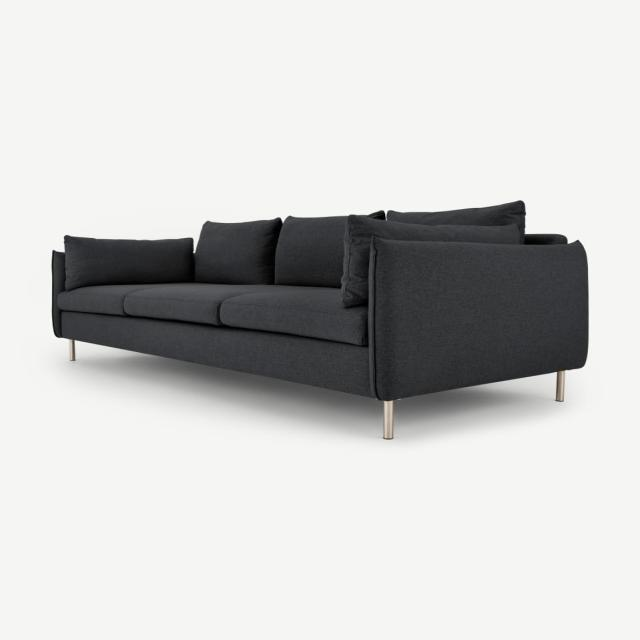back_cushion: (65, 201, 525, 308)
left_arm: (368, 238, 588, 400)
legs: (381, 401, 393, 439), (556, 371, 564, 401), (69, 340, 75, 361)
right_arm: (47, 251, 65, 337)
seat_cushion: (54, 283, 372, 396)
stallion-sofa: (0, 0, 639, 639)
